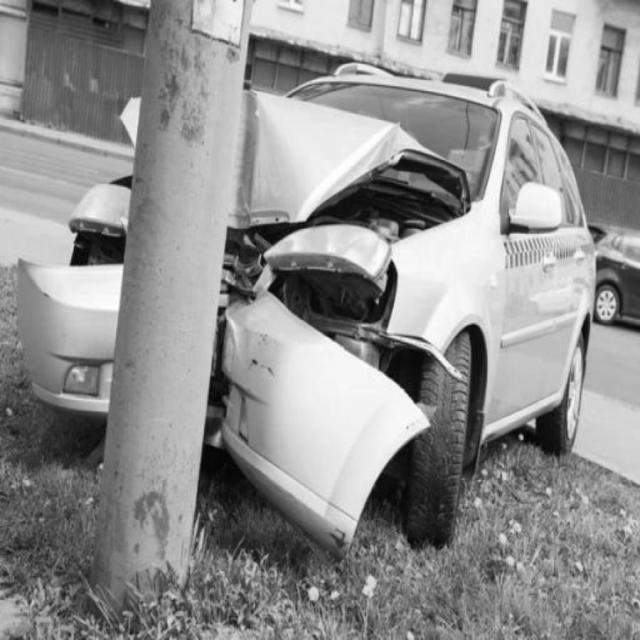accident: (96, 65, 593, 529)
